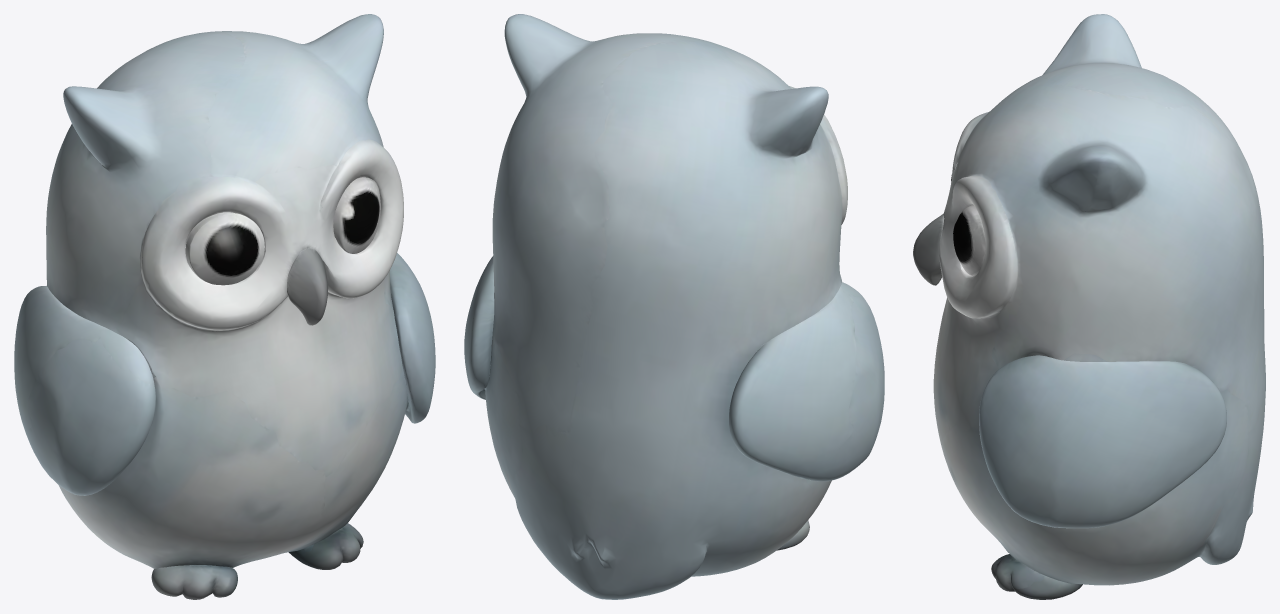
The model's file is owl.glb.
3 renders of one model, left to right at view 1: azimuth 30°, elevation 25°; view 2: azimuth 150°, elevation 25°; view 3: azimuth 270°, elevation 25°, orthographic. The views are drawn at different scales.
Visible parts, largest first — view 1: model; view 2: model; view 3: model.
Part boxes in pixels (x1,y1,x2,y2): model: (14, 14, 435, 599); model: (464, 14, 884, 599); model: (913, 14, 1265, 599).
Size of the model in its own units: 1.51 by 1.9 by 1.28.
1 material, 1 textured.
